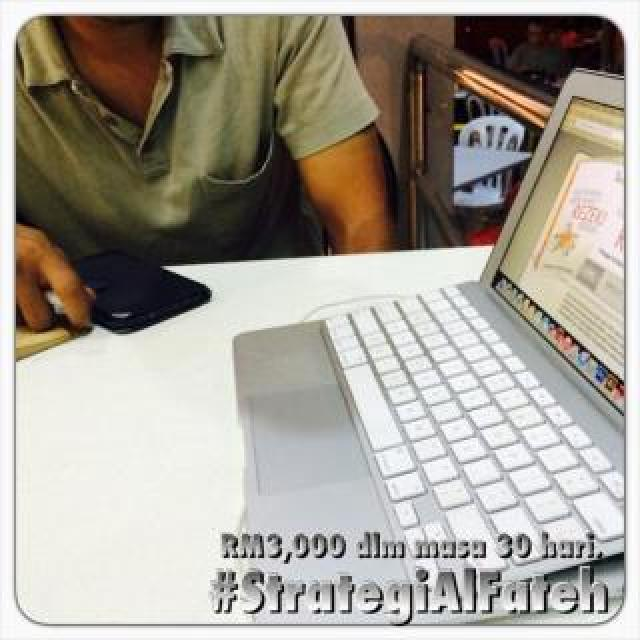laptop_computer: (245, 60, 625, 581)
smart phone: (70, 236, 215, 345)
